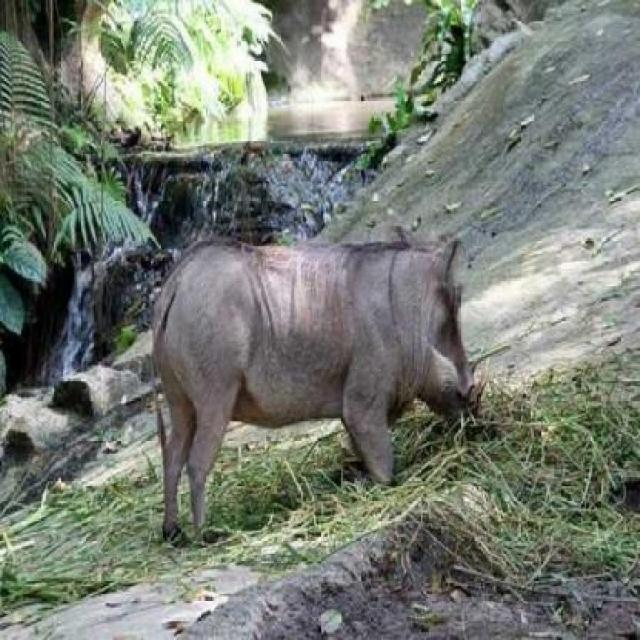pig: (151, 186, 519, 491)
